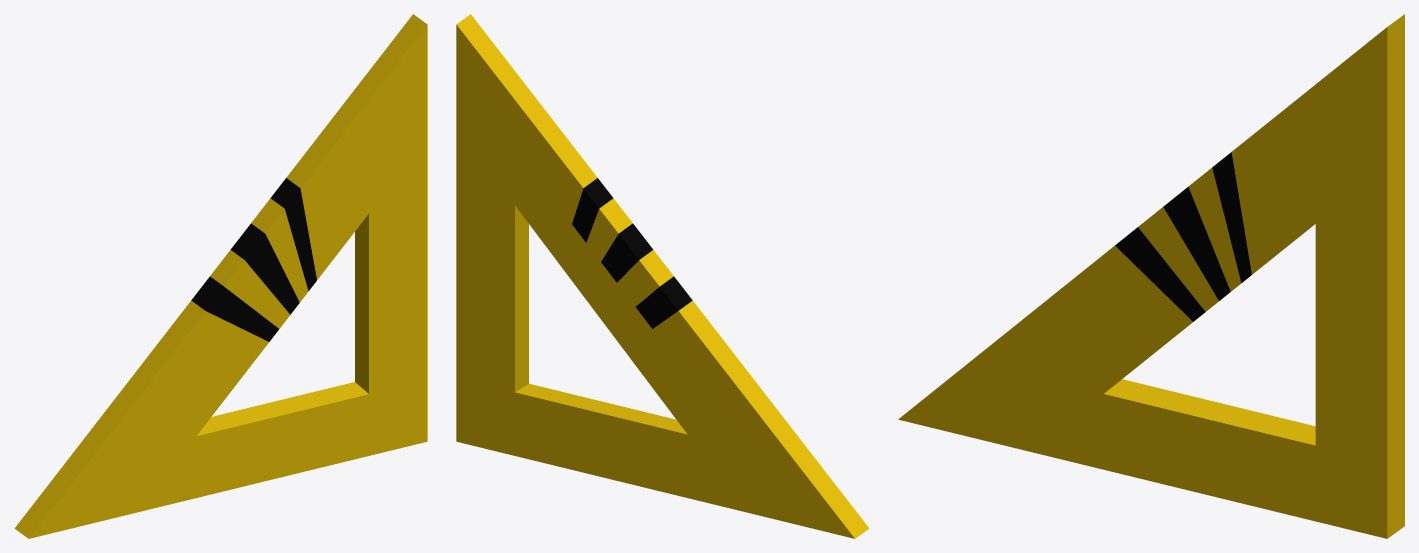
Rendered from Equerre_Geo.fbx.
3 renders of one model, left to right at view 1: azimuth 30°, elevation 25°; view 2: azimuth 150°, elevation 25°; view 3: azimuth 330°, elevation 25°, orthographic. The views are drawn at different scales.
Parts seen in each view (by area): view 1: Equerre; view 2: Equerre; view 3: Equerre.
Part boxes in pixels (x1,y1,x2,y2): Equerre: (14,14,427,538); Equerre: (456,14,869,538); Equerre: (898,14,1404,538).
Bounding box in the file's own units: 7.28 × 7.28 × 0.452.
